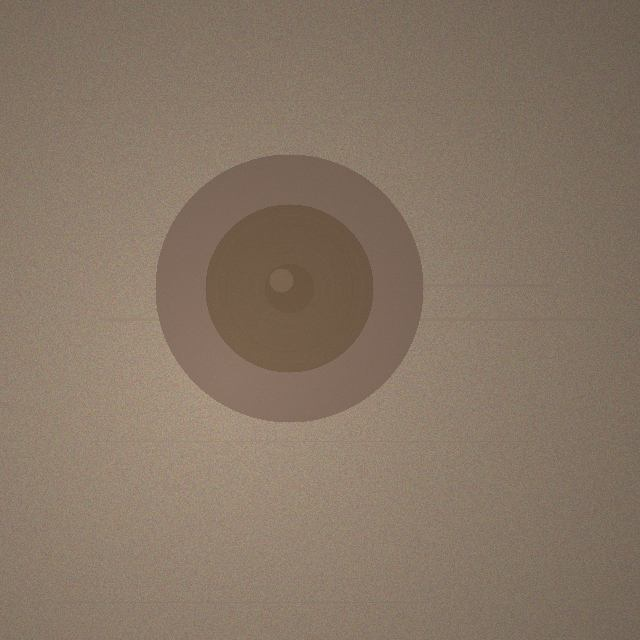good: (155, 154, 423, 422)
